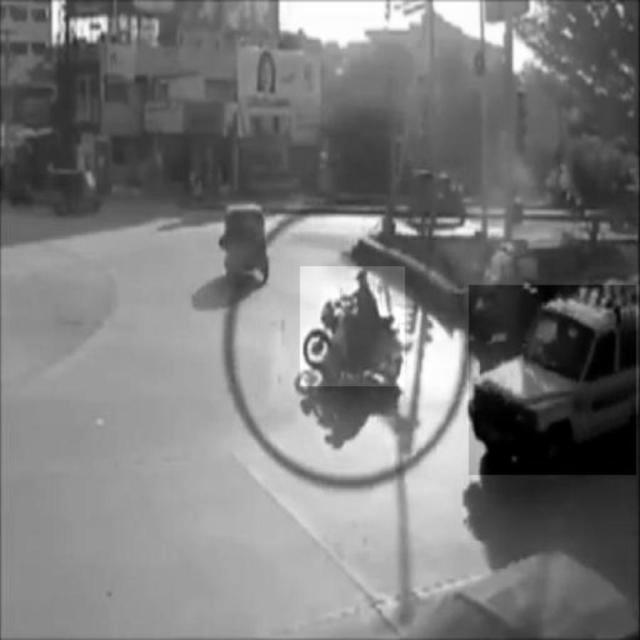vehicle: (469, 285, 636, 475), (300, 267, 404, 387), (223, 206, 270, 283)
